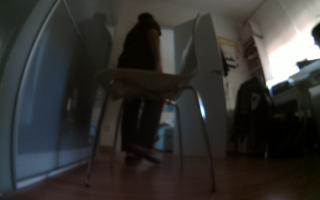person: (113, 7, 172, 170)
